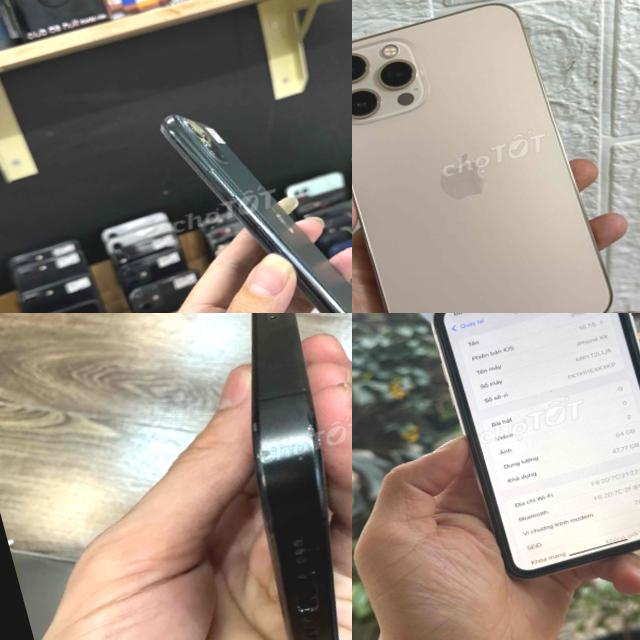gen_11: (149, 55, 352, 313)
gen_12_13: (352, 0, 624, 313)
gen_15: (185, 313, 352, 640)
gen_x_xs: (432, 313, 640, 578)
scratch: (302, 419, 322, 448), (254, 445, 272, 461), (249, 419, 260, 433), (296, 452, 304, 460), (300, 384, 306, 392)
